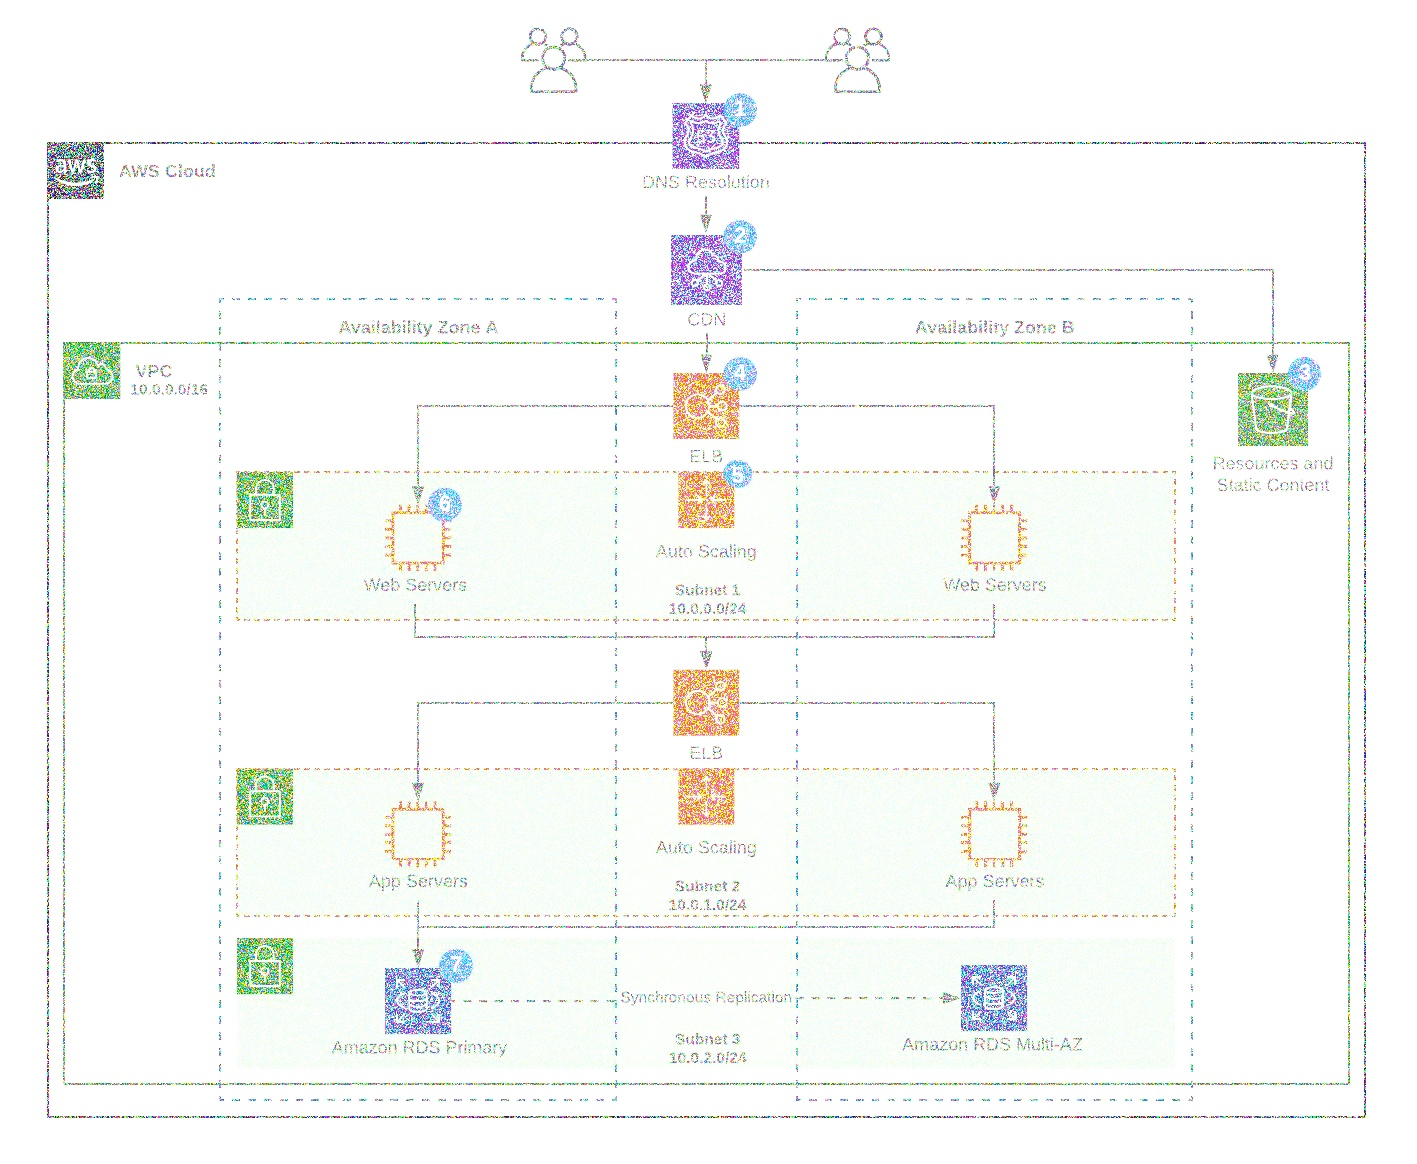Auto Scaling: (672, 463, 741, 534), (674, 763, 739, 829)
CDN: (666, 231, 746, 310)
EC2: (955, 789, 1038, 875), (955, 491, 1036, 576), (375, 793, 456, 873), (377, 499, 460, 575)
ELB: (671, 369, 745, 442), (672, 668, 746, 737)
Private Subnet: (232, 934, 297, 995)
Public Subnet: (231, 467, 301, 534), (231, 767, 296, 827)
RDS: (959, 963, 1031, 1036), (382, 966, 452, 1032)
Route53: (666, 99, 749, 173)
S3: (1237, 371, 1312, 451)
Users: (511, 13, 596, 99), (819, 13, 900, 101)
aws: (43, 135, 111, 204)
